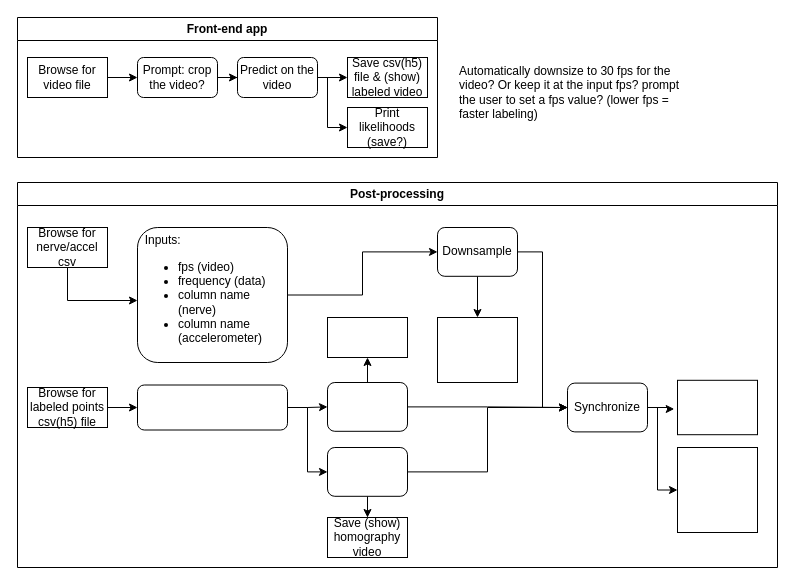
Image size: 795x585. Some labels were removed from this diagram. The shapes that lost their labels are listed below. From the top down, each one's box as (x1, y1, x2, y2) in pixels, then its label:
(326, 316, 408, 358): Plot bending coefficient w peaks
(436, 316, 518, 382): Plot nerve & accelerometer (w contact peaks)
(136, 384, 288, 430): Columns already known from previous step
(326, 382, 408, 431): Calculate bending coefficient
(676, 379, 758, 435): Plot rf mapping (image or video)
(326, 446, 408, 496): Perform homography
(676, 446, 758, 532): Save csv with all data (original, transformed, nerve, accel)
